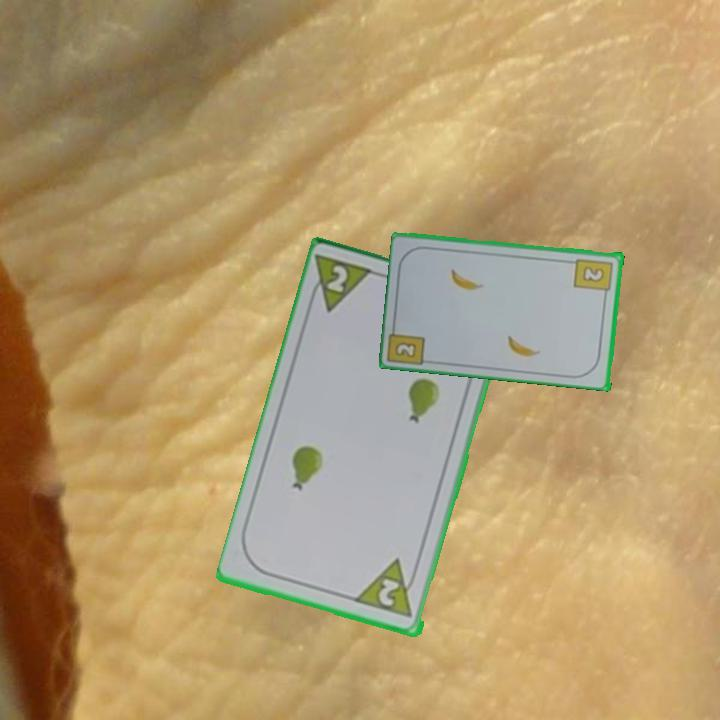2b: (571, 255, 616, 300), (392, 338, 420, 360)
2p: (305, 251, 379, 317), (354, 556, 423, 622)
